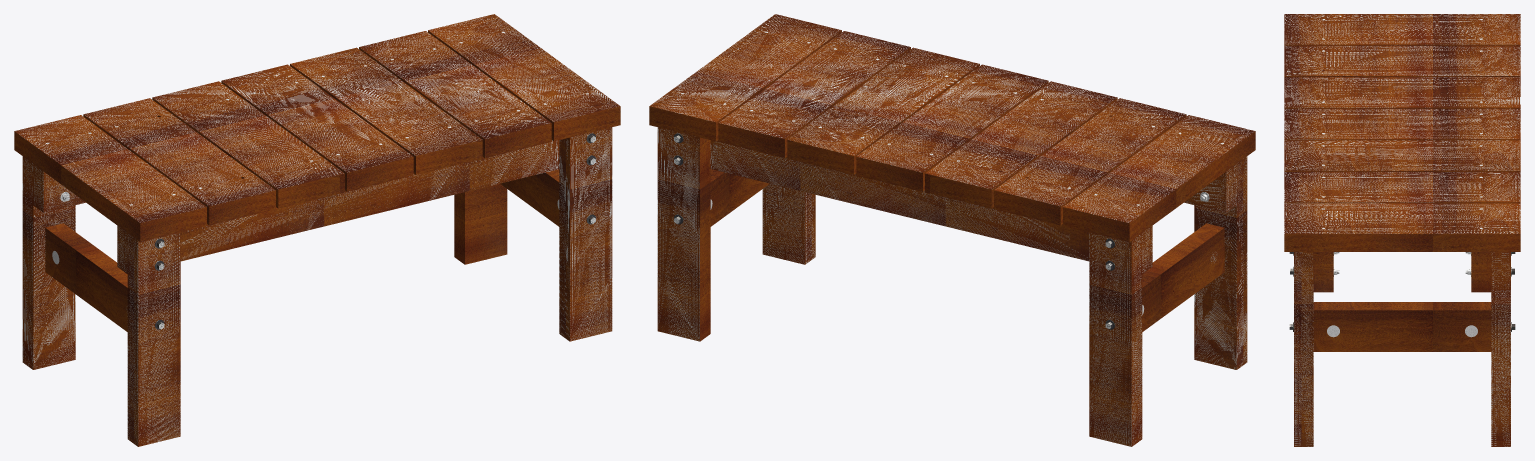
3 views of the same model, side by side, from view 1: azimuth 30°, elevation 25°; view 2: azimuth 150°, elevation 25°; view 3: azimuth 270°, elevation 25° (orthographic). The views are drawn at different scales.
Visible parts, largest first — view 1: mesh1_mesh1-geometry; view 2: mesh1_mesh1-geometry; view 3: mesh1_mesh1-geometry.
Boxes of the visible parts, x1,y1,x2,y2 form: mesh1_mesh1-geometry: (14,14,620,446); mesh1_mesh1-geometry: (649,14,1255,446); mesh1_mesh1-geometry: (1284,14,1520,446).
Bounding box in the file's own units: 0.8413 × 0.3822 × 0.3822.
